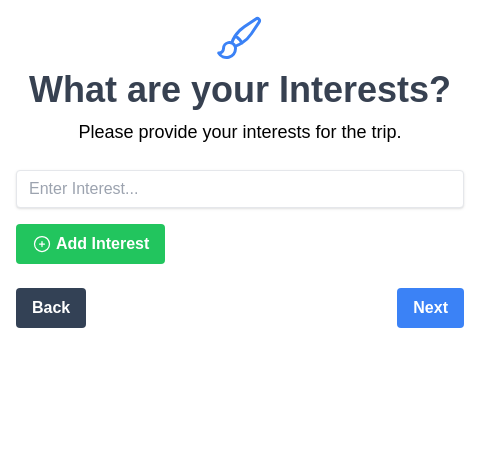
Scenario: InterestsInput component › removing interests › removes input element when remove button is clicked
expect the number of fields with placeholder "Enter Interest..." is 1: met, box x1=16 y1=170 x2=464 y2=208
expect the text "Remove" is not shown: met
Note: Add two more interests
Click the button "Add Interest" at (91, 244), box x1=16 y1=224 x2=165 y2=264
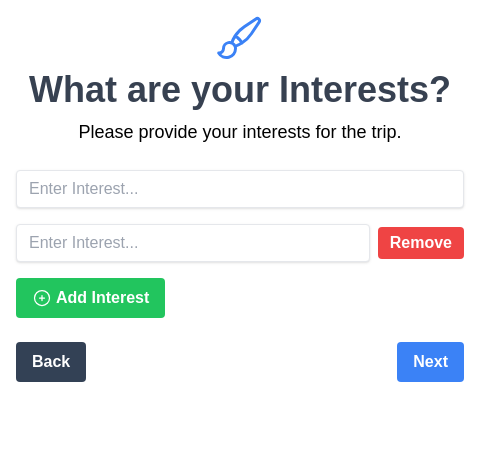
Click the button "Add Interest" at (91, 298), box x1=16 y1=278 x2=165 y2=318
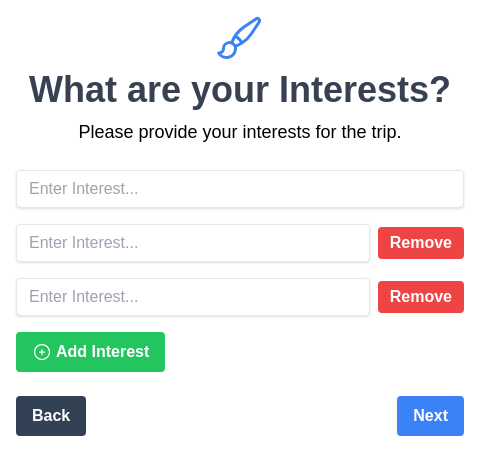
Type "Hiking" into the 1st field with placeholder "Enter Interest..." at (240, 189), box x1=16 y1=170 x2=464 y2=208
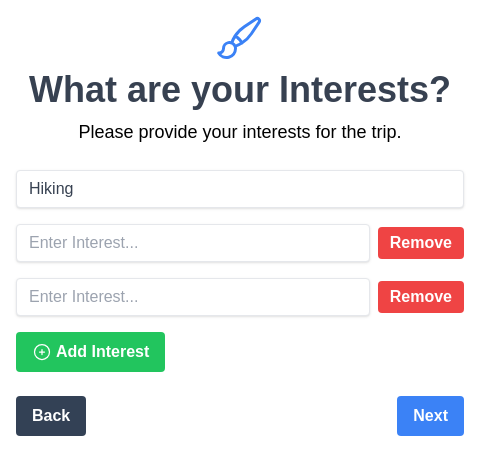
Type "Coffee" into the 1st field with placeholder "Enter Interest..." at (193, 243), box x1=16 y1=224 x2=370 y2=262
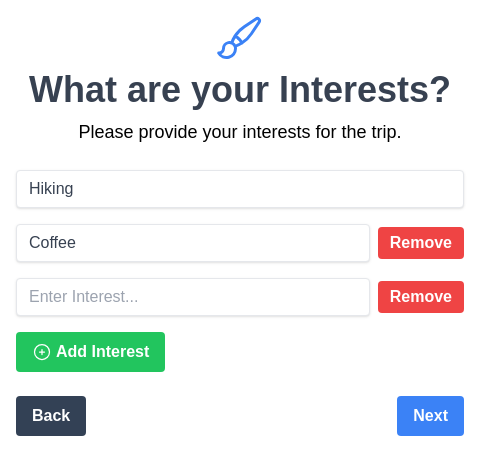
Type "Tea" into the field with placeholder "Enter Interest..." at (193, 297), box x1=16 y1=278 x2=370 y2=316
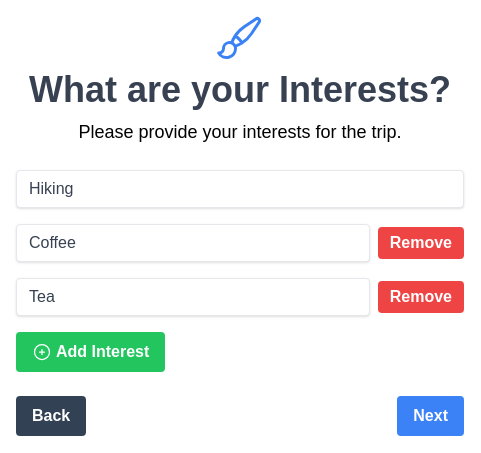
expect the number of fields with placeholder "Enter Interest..." is 3: met, box x1=16 y1=170 x2=464 y2=208; x1=16 y1=224 x2=370 y2=262; x1=16 y1=278 x2=370 y2=316
expect the number of buttons "Remove" is 2: met
Note: Remove the second interest ('Coffee')
Click the 1st button "Remove" at (421, 243), box x1=378 y1=227 x2=464 y2=259
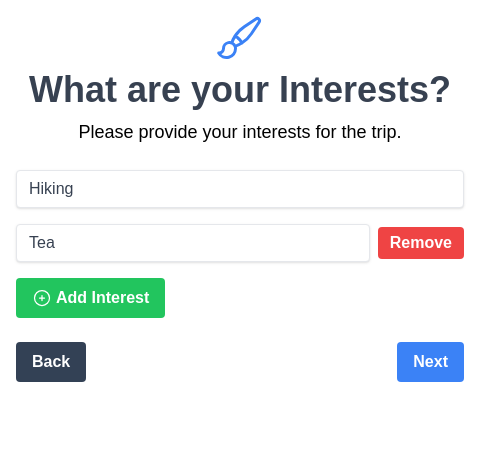
expect the field showing "Coffee" is not shown: met
expect the 2nd field showing "Tea" is shown: met, box x1=16 y1=224 x2=370 y2=262
expect the number of buttons "Remove" is 1: met, box x1=378 y1=227 x2=464 y2=259
